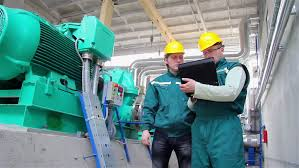Person_wearing_helmet: (195, 26, 229, 54), (159, 36, 185, 60)
